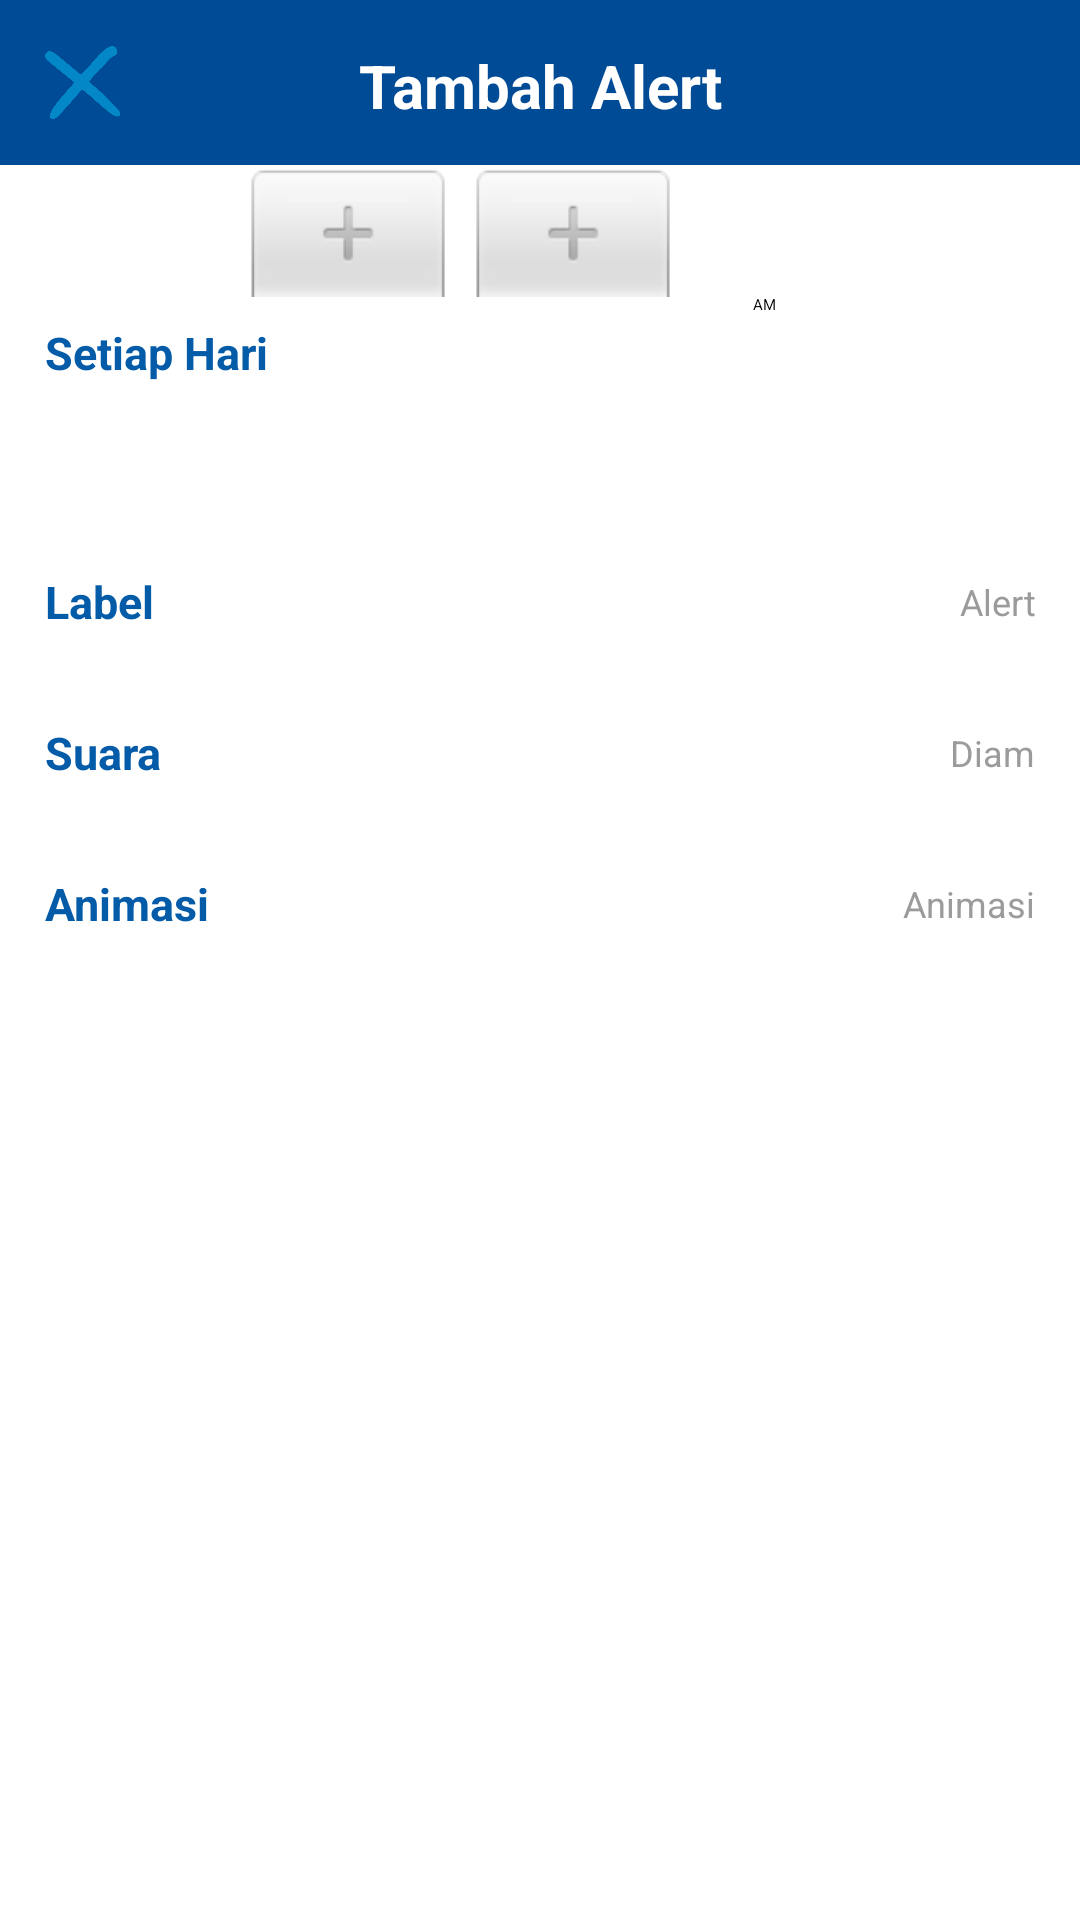

Where icons sit on this 1080px×1920px app screen, as [left=x1, top=y1, right=x2, bottom=y2]:
close: [left=45, top=46, right=120, bottom=119]
